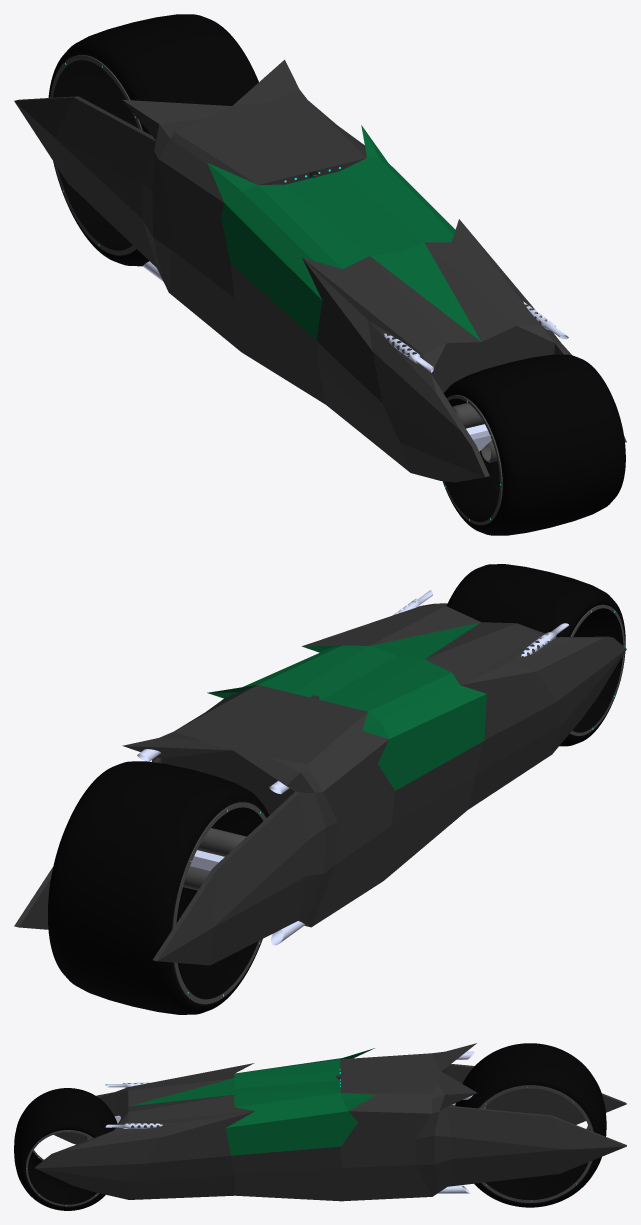
File: Bike_P3.glb
3 views of the same model, one above another, from view 1: azimuth 30°, elevation 25°; view 2: azimuth 150°, elevation 25°; view 3: azimuth 270°, elevation 25° (orthographic). The views are drawn at different scales.
Visible parts, largest first — view 1: Chassis, Tire_Front, Tire_Rear, Wheel_Well_Front.002, Guns, Wheel_Well_Front, Drive_Train_Cyl_F; view 2: Chassis, Tire_Rear, Tire_Front, Wheel_Well_Front.002, Drive_Train_Cyl_R, Exhausts, Guns; view 3: Chassis, Tire_Rear, Tire_Front, Wheel_Well_Front.002, Wheel_Well_Front, Guns, Exhausts.
Boxes of the visible parts, x1,y1,x2,y2 form: Chassis: (14,59,626,482); Tire_Front: (442,354,625,535); Tire_Rear: (48,14,258,266); Wheel_Well_Front.002: (50,55,142,255); Guns: (384,301,568,372); Wheel_Well_Front: (443,395,502,525); Drive_Train_Cyl_F: (452,403,497,462); Chassis: (14,603,626,965); Tire_Rear: (48,761,269,1014); Tire_Front: (446,564,625,746); Wheel_Well_Front.002: (172,802,266,1004); Drive_Train_Cyl_R: (183,828,246,890); Exhausts: (137,749,304,945); Guns: (392,590,568,656); Chassis: (35,1043,626,1201); Tire_Rear: (455,1043,606,1207); Tire_Front: (14,1088,117,1210); Wheel_Well_Front.002: (479,1085,593,1202); Wheel_Well_Front: (26,1130,99,1206); Guns: (105,1082,162,1128); Exhausts: (438,1051,474,1193).
Bounding box in the file's own units: 0.9789 × 1.21 × 4.74.
